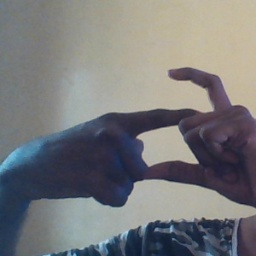E: (112, 59, 235, 188)
